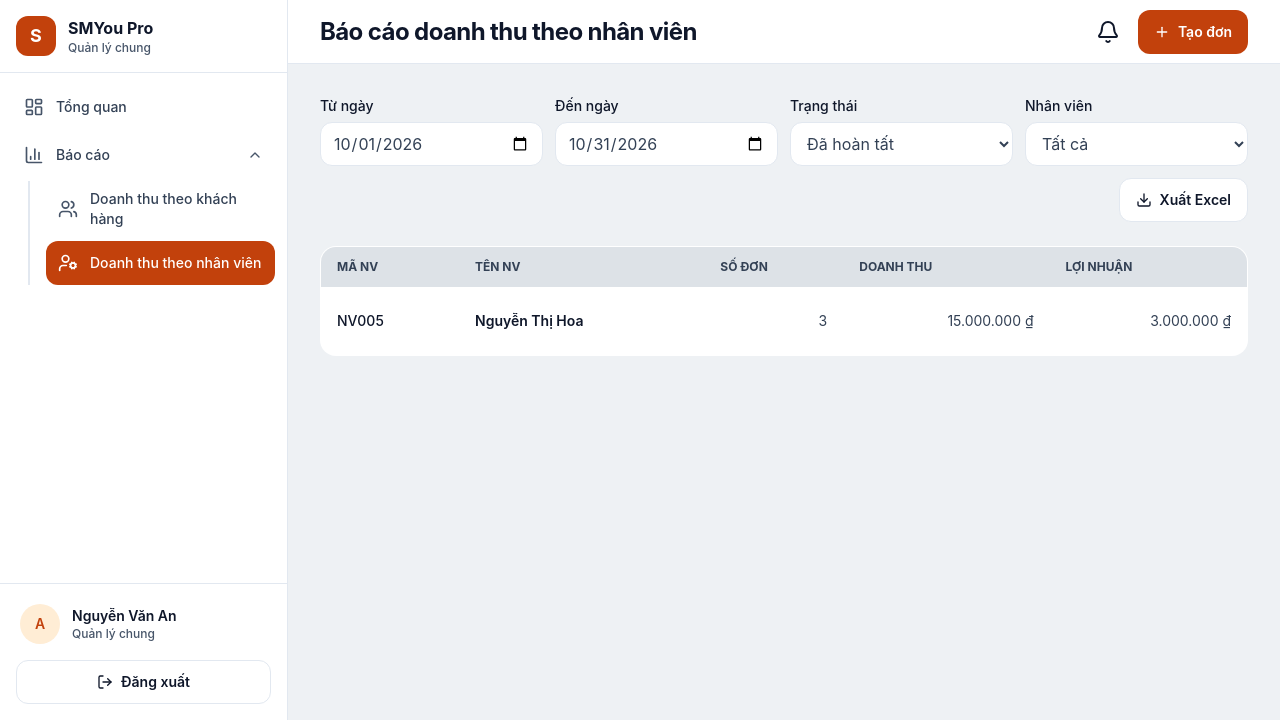
Scenario: Báo cáo doanh thu theo nhân viên › AC-RPT-064 bấm 1 dòng NV → drilldown liệt kê DÒNG HÀNG (không phải đơn), gọi đúng /lines?employee_id
The image size is (1280, 720).
Click the button "Nguyễn Thị Hoa" at (529, 321), box [475,299,584,343]
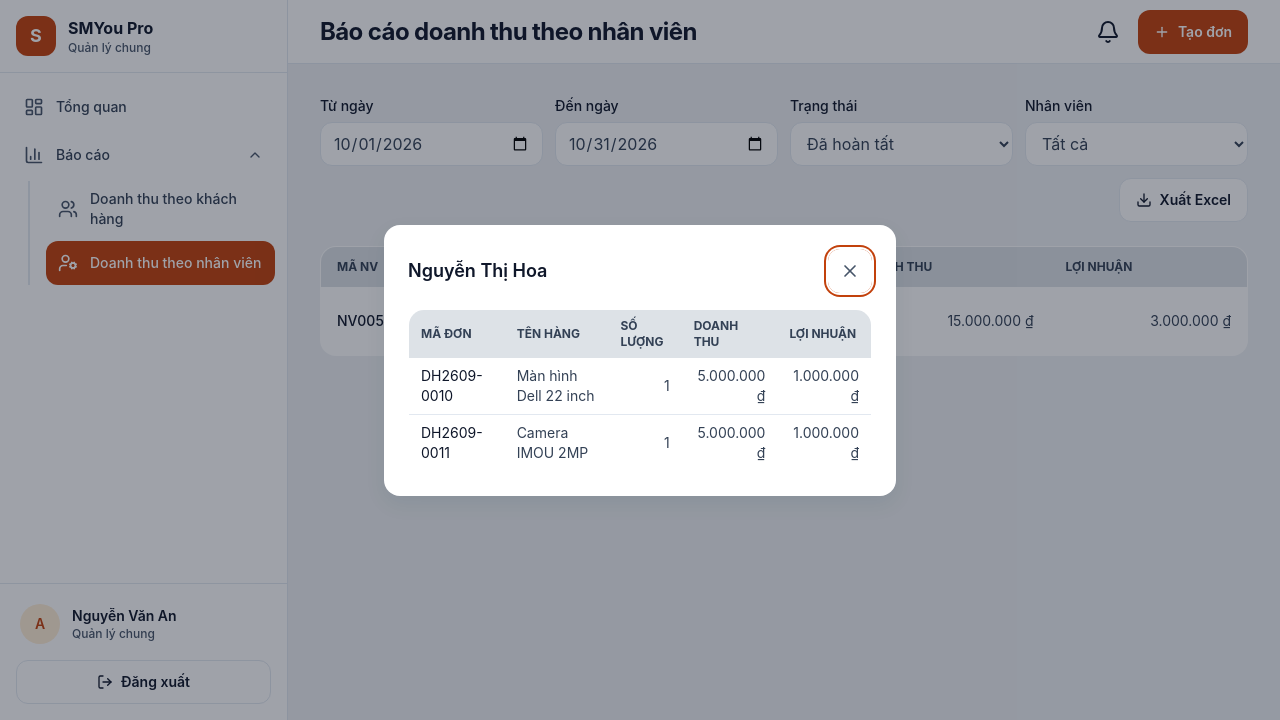
Check: the dialog "Nguyễn Thị Hoa" is shown
Check: the text "DH2609-0010" is shown, box [408,358,505,414]
Check: the text "Màn hình Dell 22 inch" is shown, box [505,358,608,414]
